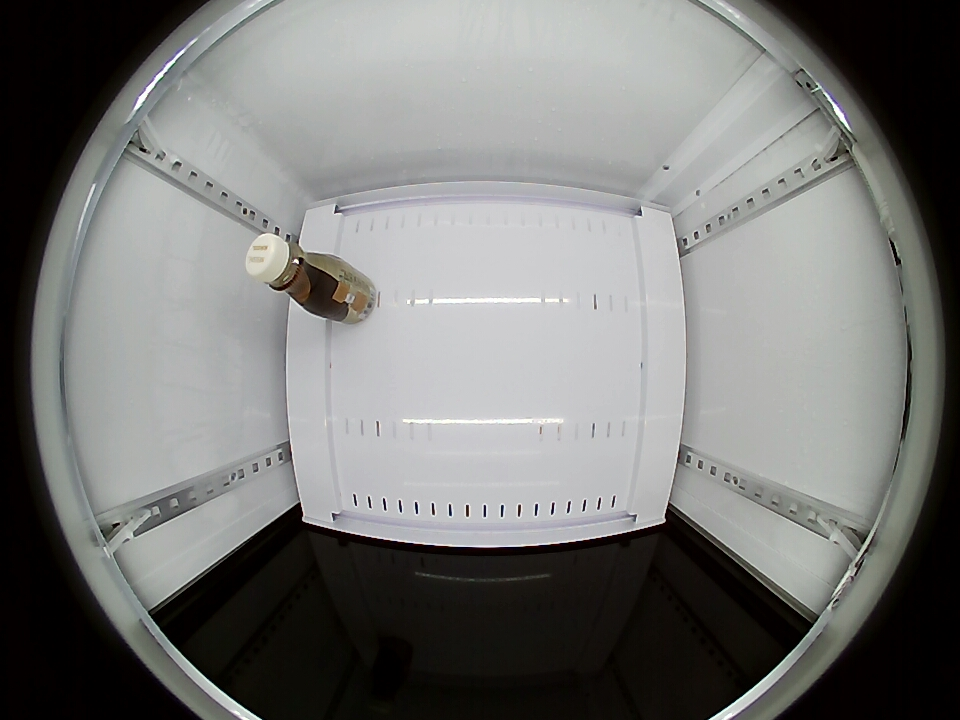kafei: (245, 234, 341, 314)
